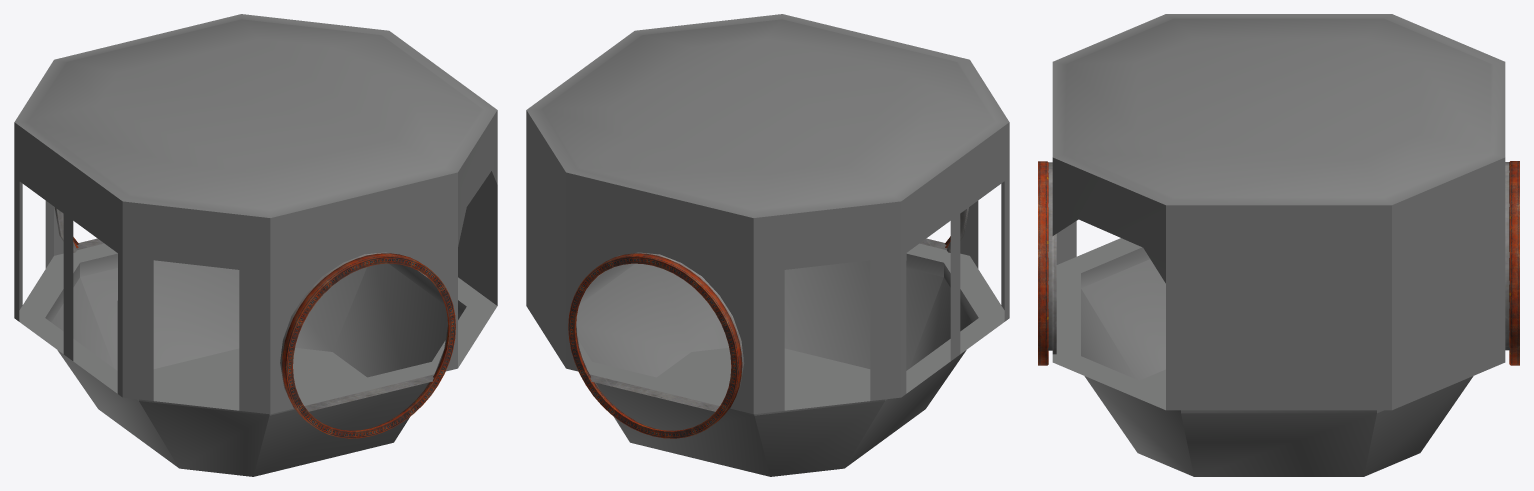
Rendered from tau_8sided_room_divingroom_2door03.dae.
3 renders of one model, left to right at view 1: azimuth 30°, elevation 25°; view 2: azimuth 150°, elevation 25°; view 3: azimuth 270°, elevation 25°, orthographic. The views are drawn at different scales.
Parts seen in each view (by area): view 1: polySurface374, pPipe70, polySurface386; view 2: polySurface374, pPipe69, polySurface385; view 3: polySurface374, pPipe69, pPipe70, polySurface386, polySurface385.
Part boxes in pixels (<box>): polySurface374: <box>14,14,497,476</box>; pPipe70: <box>282,253,455,438</box>; polySurface386: <box>280,252,447,411</box>; polySurface374: <box>526,14,1009,476</box>; pPipe69: <box>568,253,742,438</box>; polySurface385: <box>576,252,744,411</box>; polySurface374: <box>1052,14,1505,476</box>; pPipe69: <box>1509,161,1519,365</box>; pPipe70: <box>1038,161,1048,365</box>; polySurface386: <box>1047,162,1056,354</box>; polySurface385: <box>1505,162,1510,350</box>.
Size of the model in its own units: 8 by 6.21 by 8.52.
